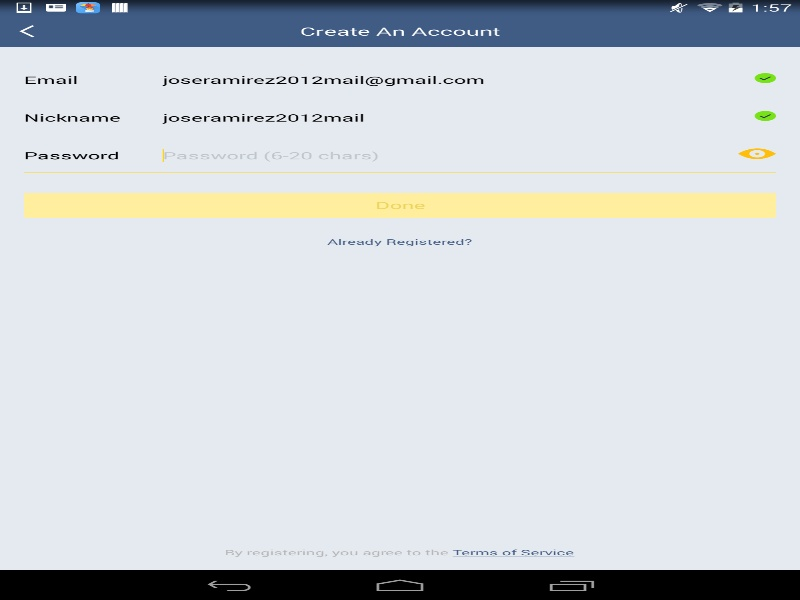Button: (24, 192, 776, 217)
Input: (162, 67, 754, 88), (162, 105, 754, 126), (162, 143, 738, 164)
